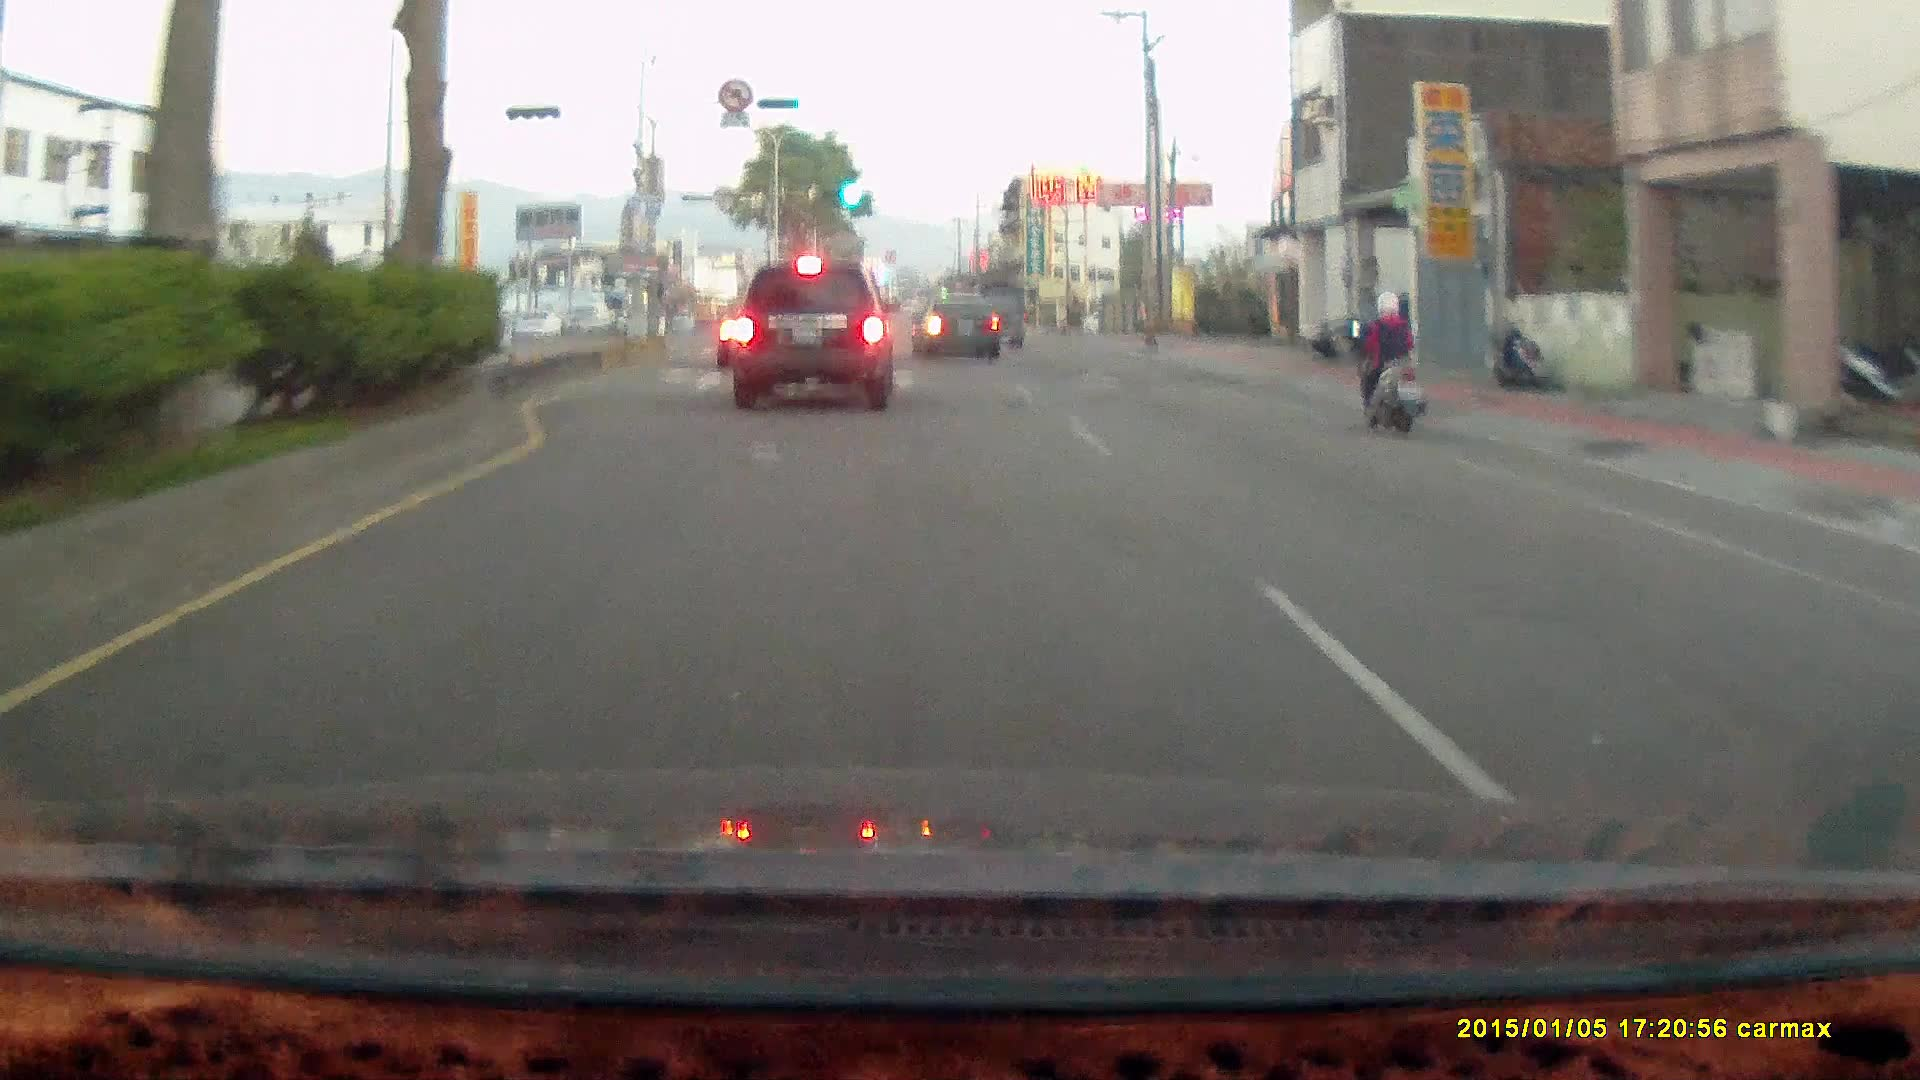rider: (1337, 279, 1443, 449), (1351, 290, 1428, 435)
vehicle: (724, 261, 894, 417), (729, 265, 898, 412), (1299, 288, 1486, 360), (1306, 290, 1418, 363), (912, 292, 1006, 360), (912, 300, 1000, 364), (970, 285, 1029, 353), (965, 281, 1026, 346), (561, 305, 609, 335), (513, 310, 561, 337)
